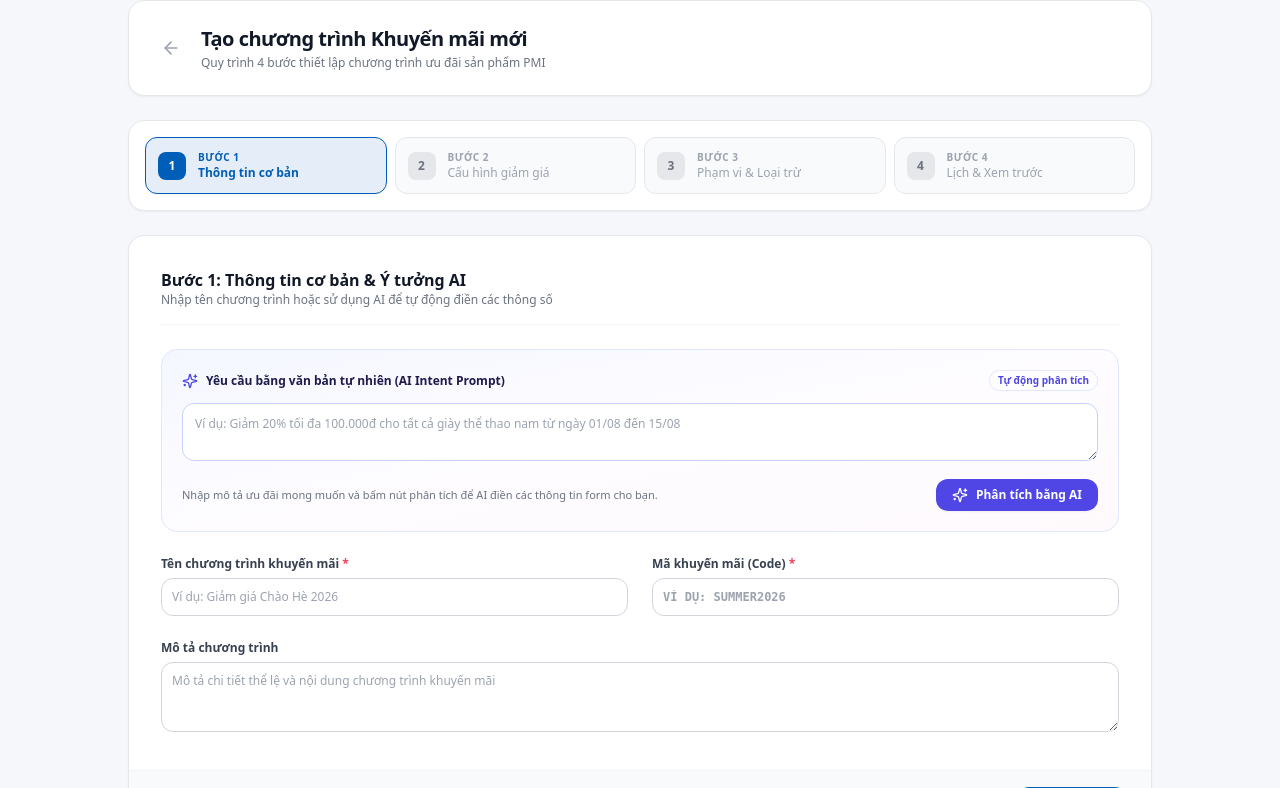
Test: PromotionForm Empirical Stress & Edge Case Tests › 4. Scope exclusions in Step 3
In the field with placeholder "Ví dụ: Giảm giá Chào Hè 2026": (394, 597) [161,578,628,616], type "Test Scopes"
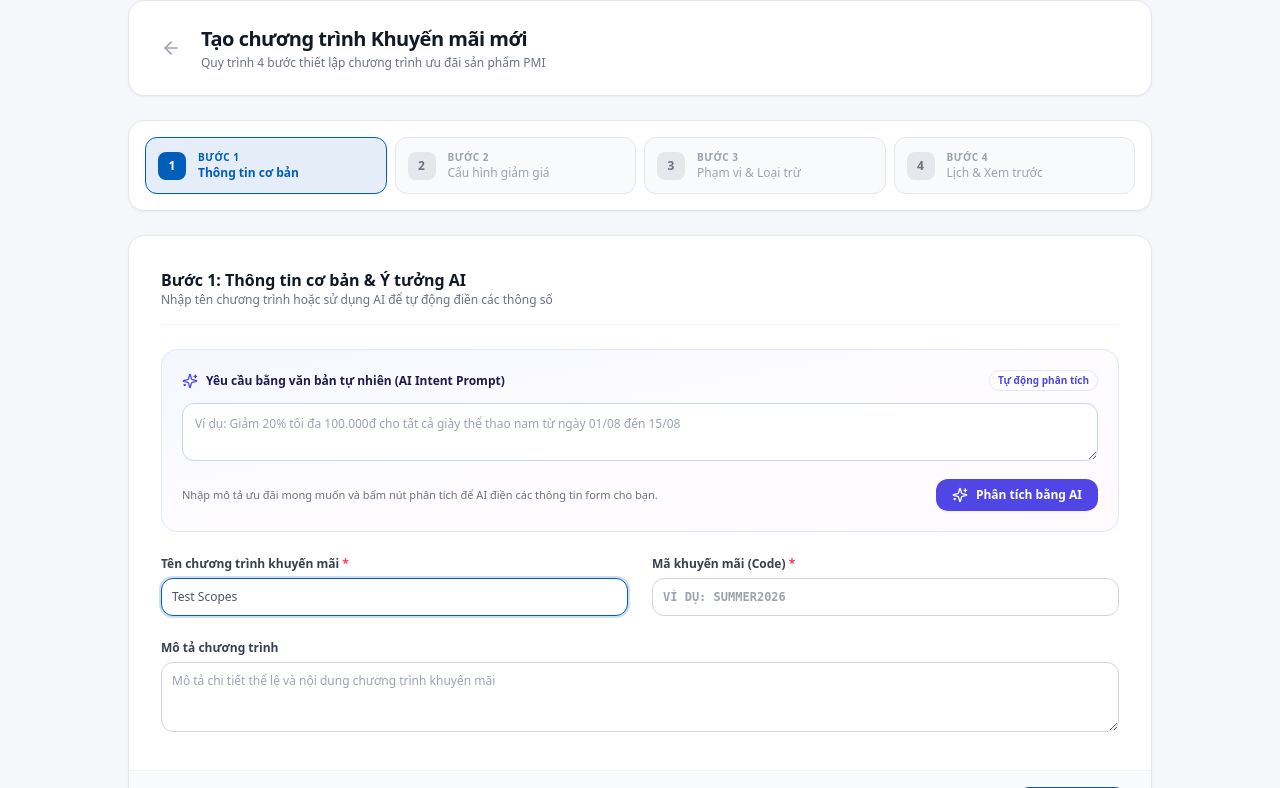
In the field with placeholder "Ví dụ: SUMMER2026": (886, 597) [652,578,1119,616], type "SCOPES"
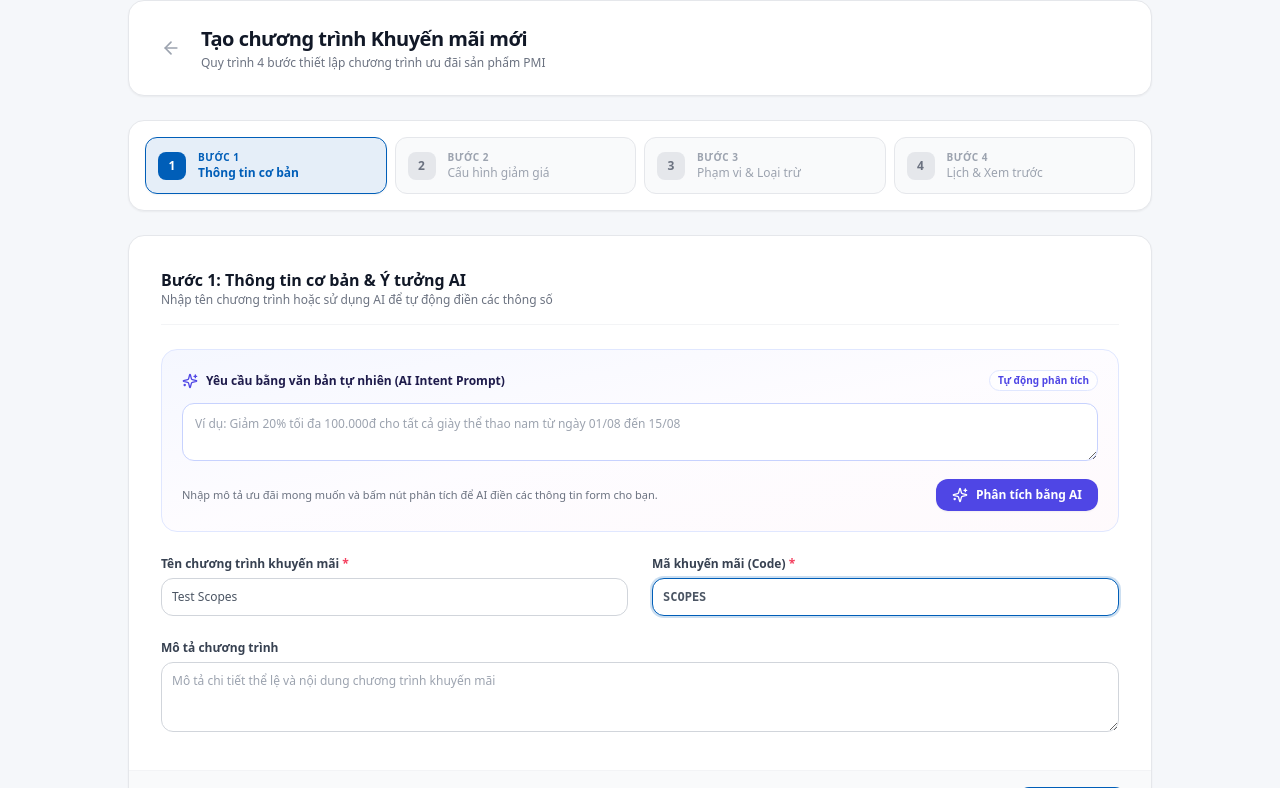
// Jump to Step 3
Click the text "Phạm vi & Loại trừ": (749, 173) [697,165,801,181]
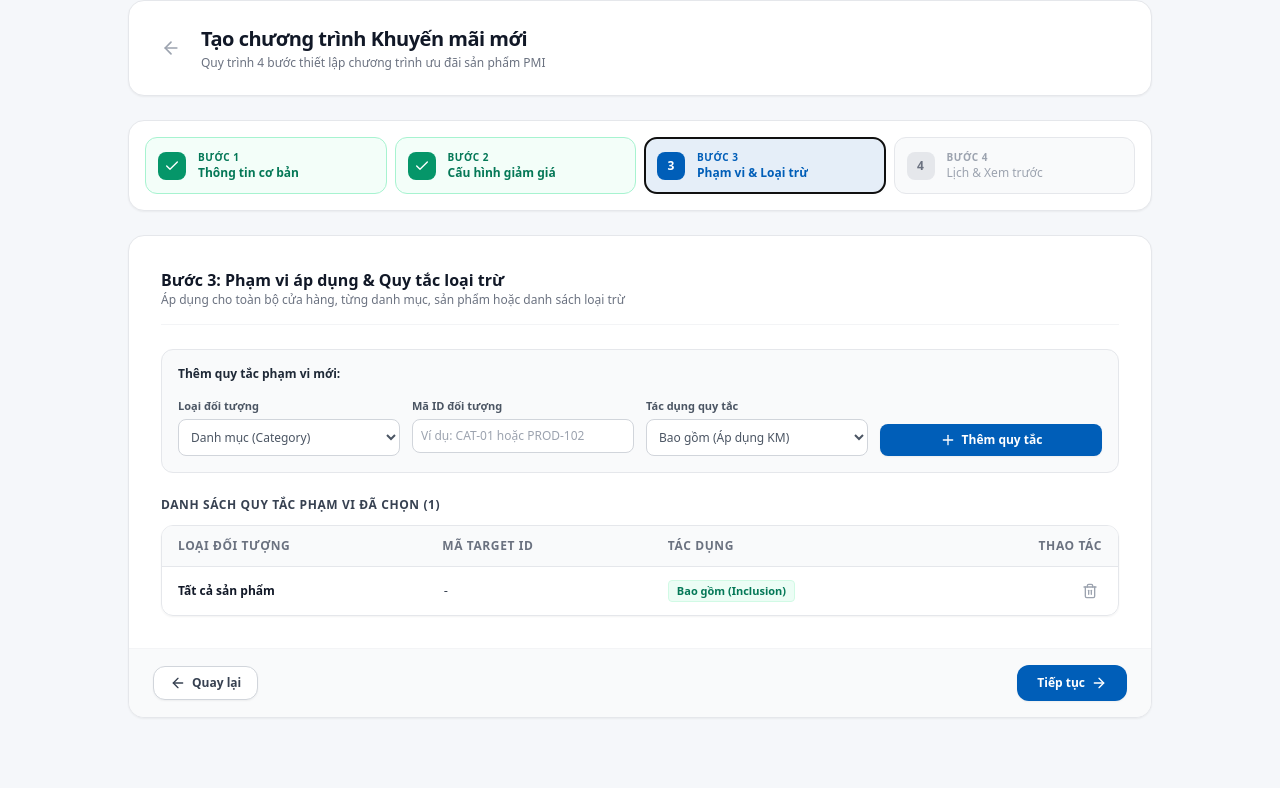
// Select Exclusion option
Select "Danh mục (Category)" in the 1st dropdown: (289, 437) [178,418,400,456]
Select "Loại trừ (Không áp dụng KM)" in the dropdown below "Tác dụng quy tắc": (757, 437) [646,418,868,456]
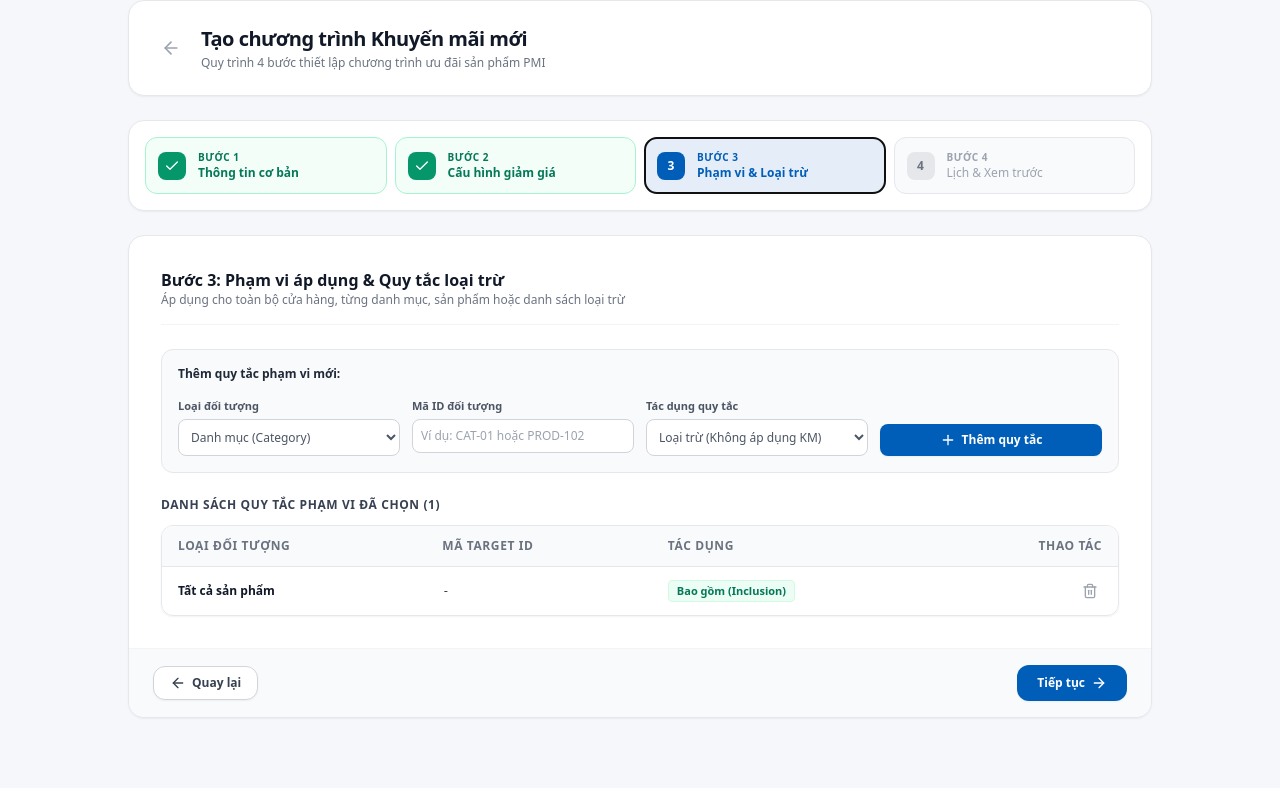
In the field with placeholder "Ví dụ: CAT-01 hoặc PROD-102": (523, 436) [412,418,634,452], type "EXCLUDE-CAT"
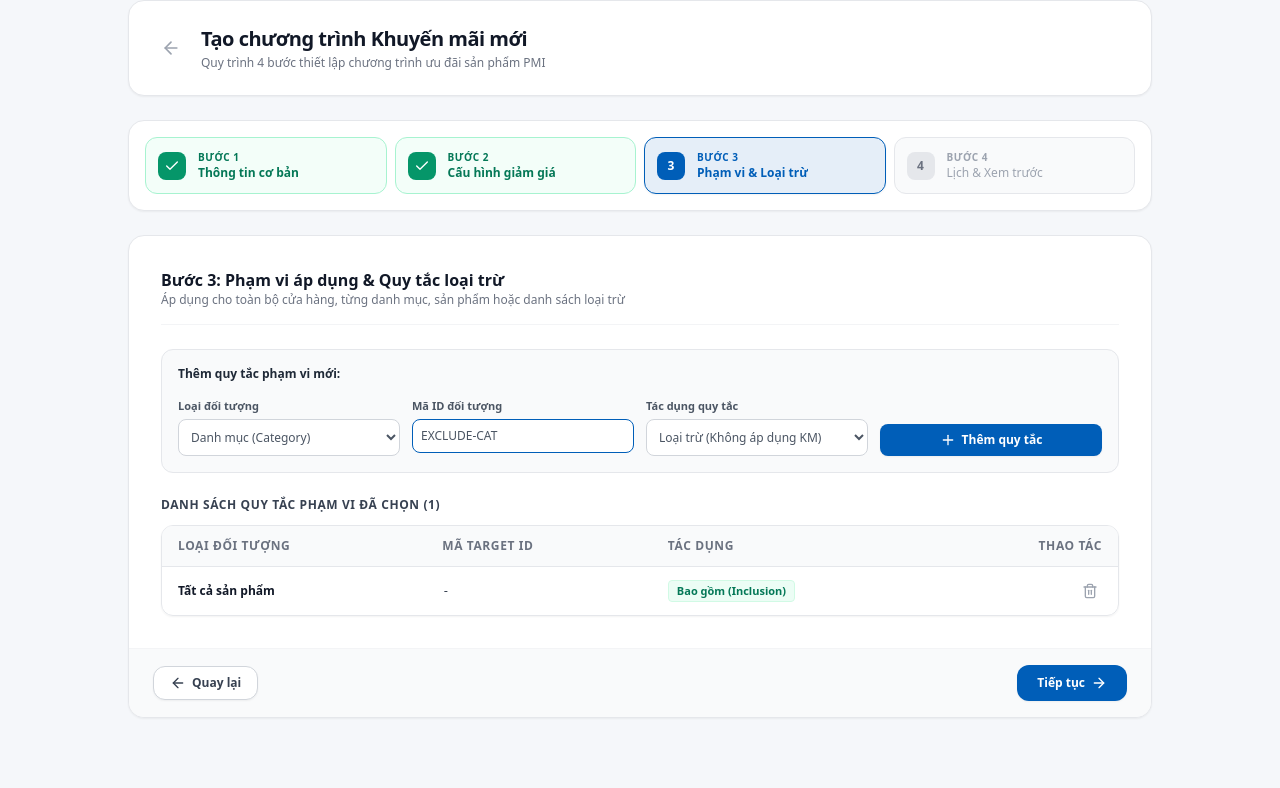
Click the button "Thêm quy tắc": (991, 440) [880,424,1102,456]
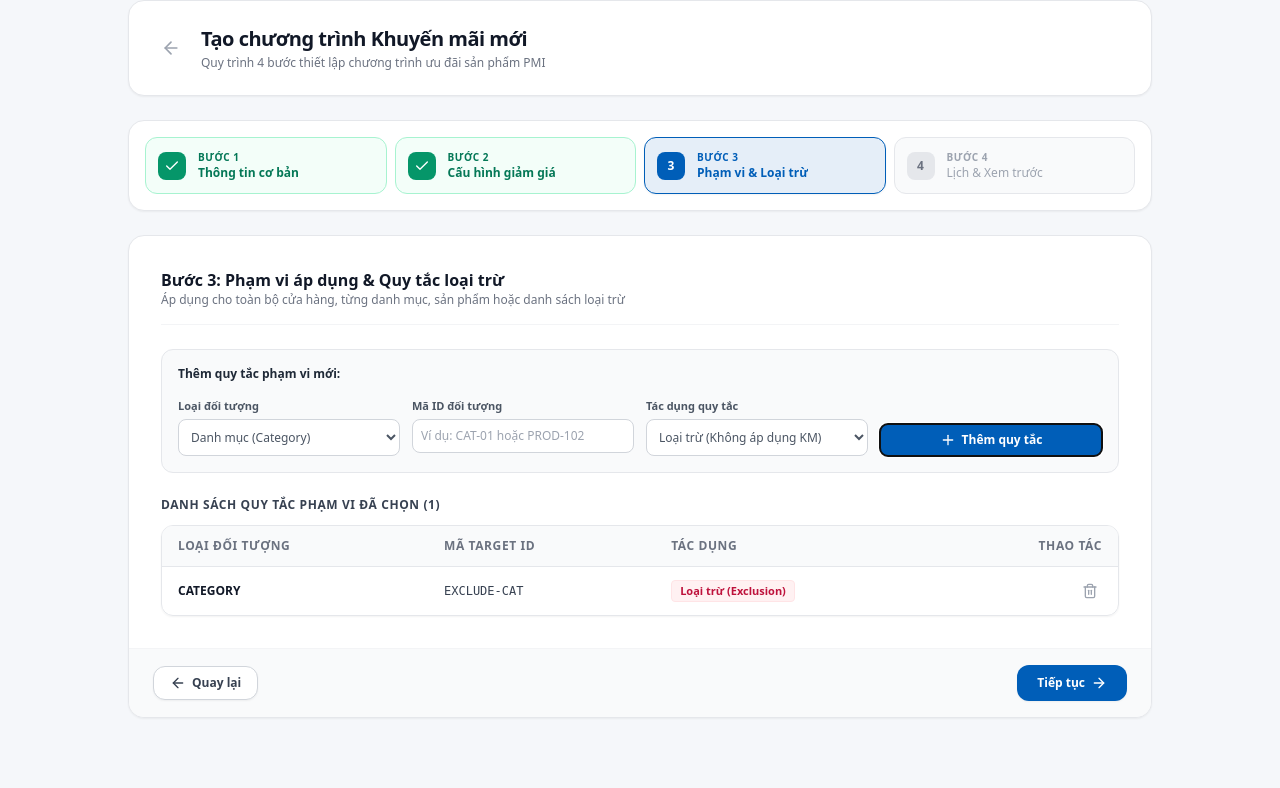
Expected: the text "EXCLUDE-CAT" is shown, [428,566,655,614]
Expected: the text "Loại trừ (Exclusion)" is shown, [671,580,795,602]
